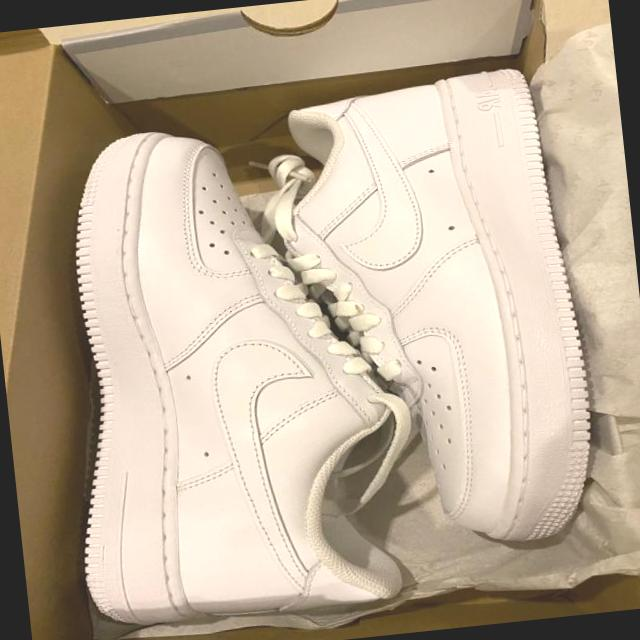nike_original_airforce: (38, 109, 406, 630), (261, 63, 606, 570)
